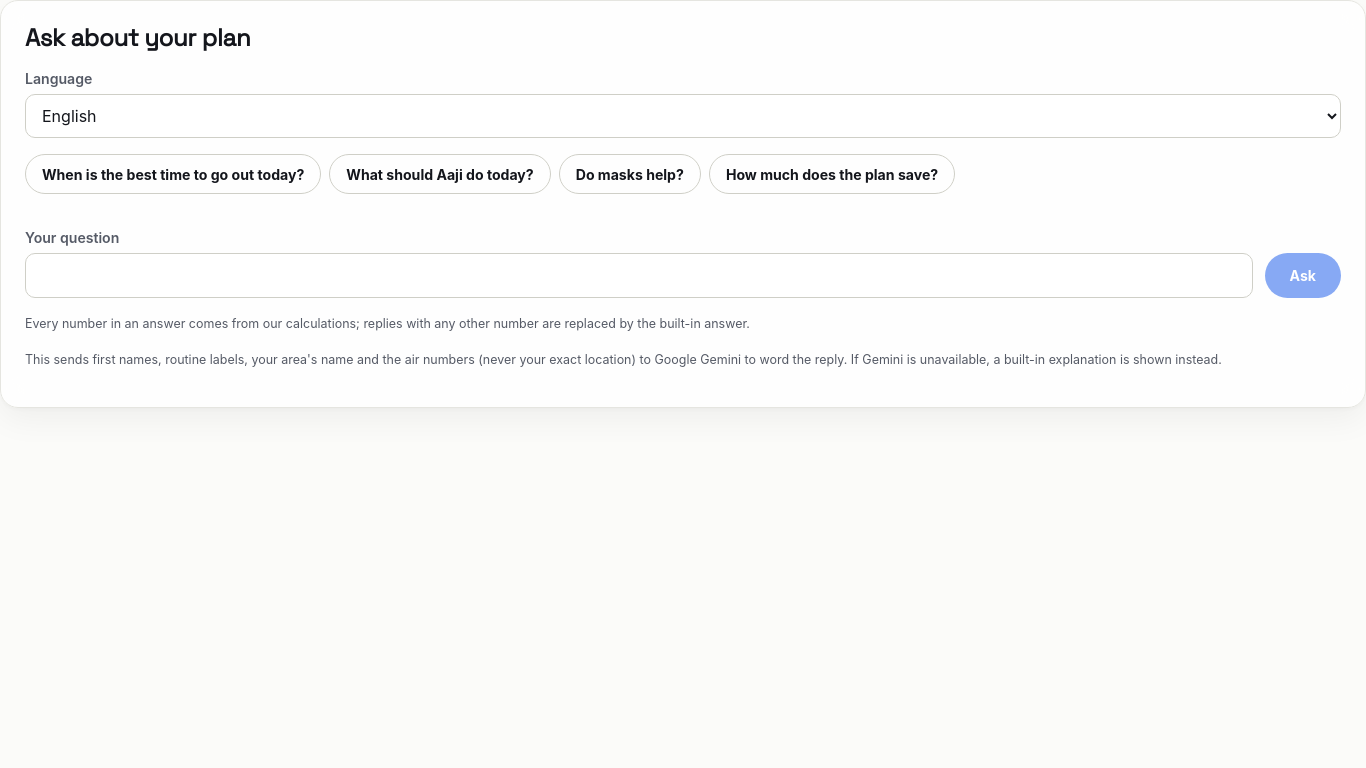
Scenario: AskView › falls back to the rules answer when the server fails
The image size is (1366, 768).
Type "What about Aaji?" into the field labelled "Your question" at point(639, 276), box [25,253,1253,298]
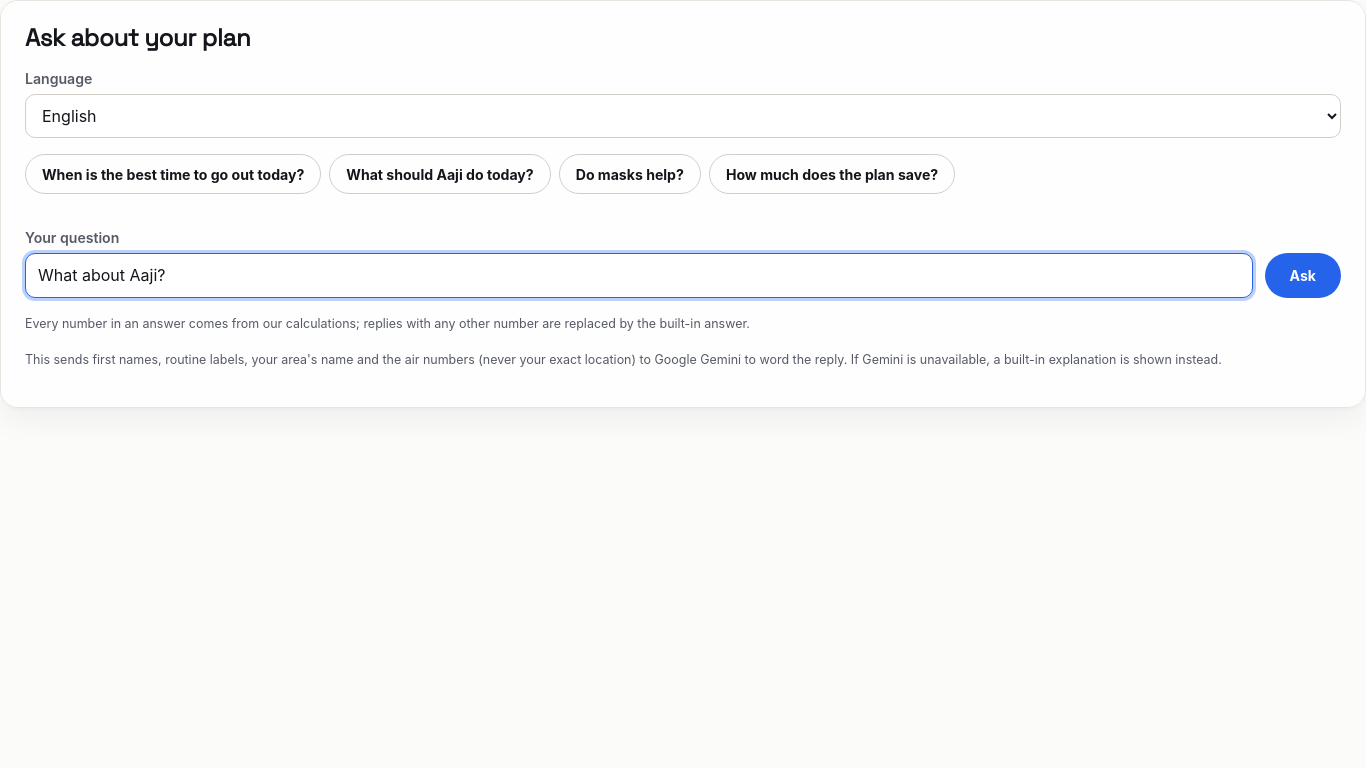
Click the button "Ask" at point(1303, 275), box [1265,253,1341,298]
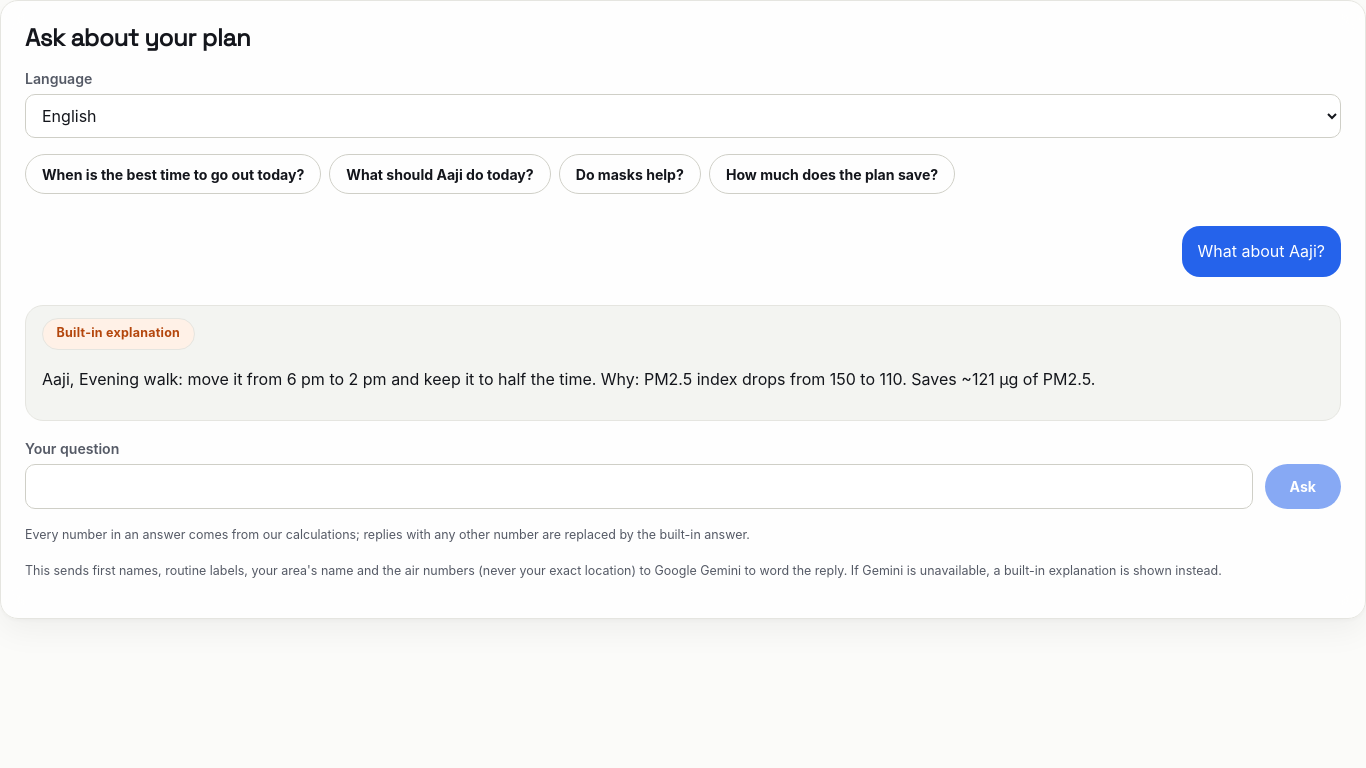
Check: the text "Aaji, Evening walk: move it from 6 pm to 2 pm" is shown, box [42,369,1095,389]
Check: the text "Built-in explanation" is shown, box [42,318,195,350]
